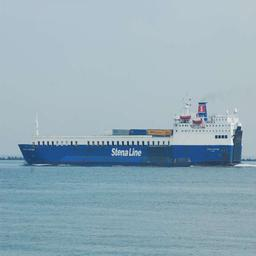Ship: (17, 113, 247, 170)
